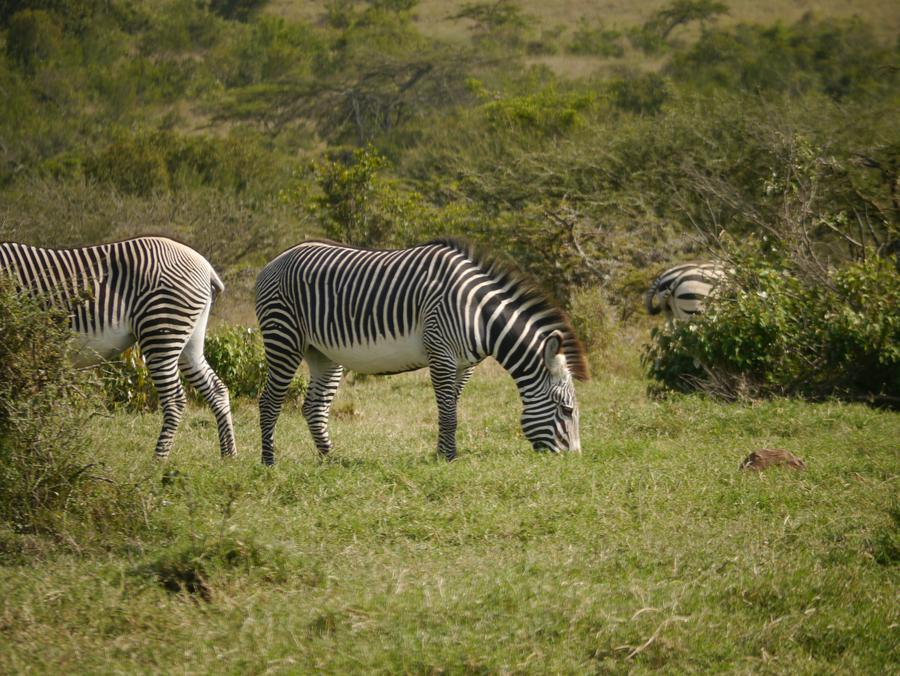zebra_grevys: (244, 232, 461, 369)
